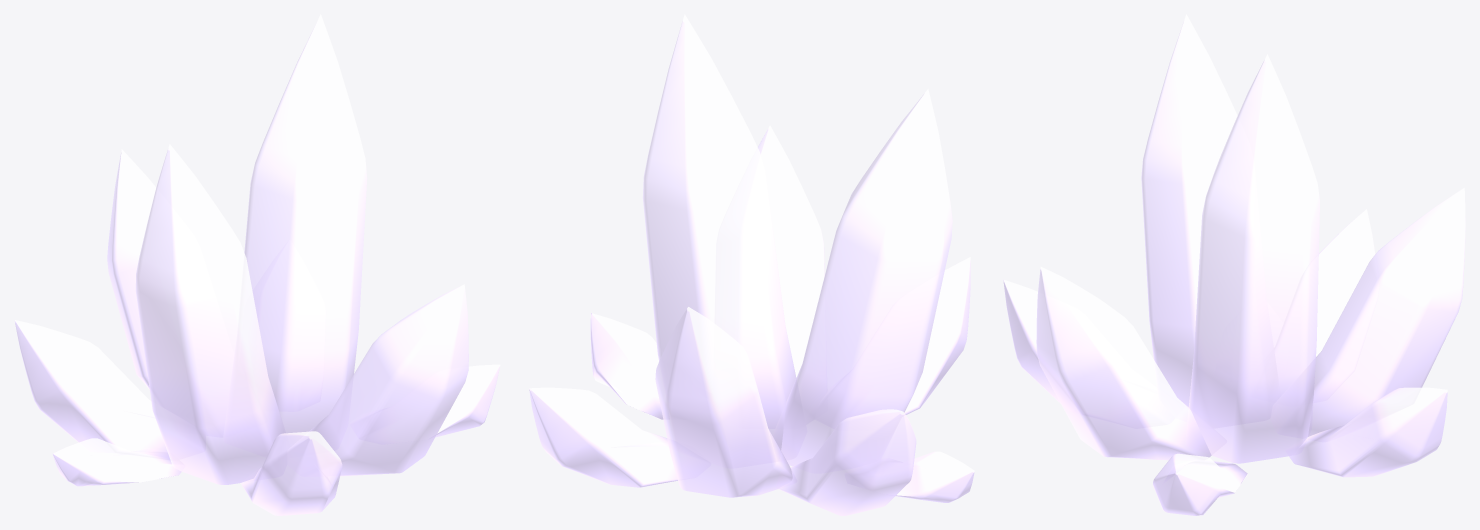
Rendered from crystal-lavender.glb.
3 views of the same model, side by side, from view 1: azimuth 30°, elevation 25°; view 2: azimuth 150°, elevation 25°; view 3: azimuth 270°, elevation 25° (orthographic). The views are drawn at different scales.
Visible parts, largest first — view 1: crystal-lavender; view 2: crystal-lavender; view 3: crystal-lavender.
Part boxes in pixels (bbox=[...]): crystal-lavender: bbox=[14, 14, 500, 515]; crystal-lavender: bbox=[529, 14, 974, 515]; crystal-lavender: bbox=[1003, 14, 1465, 515].
Size of the model in its own units: 1.7 by 1.6 by 1.66.
